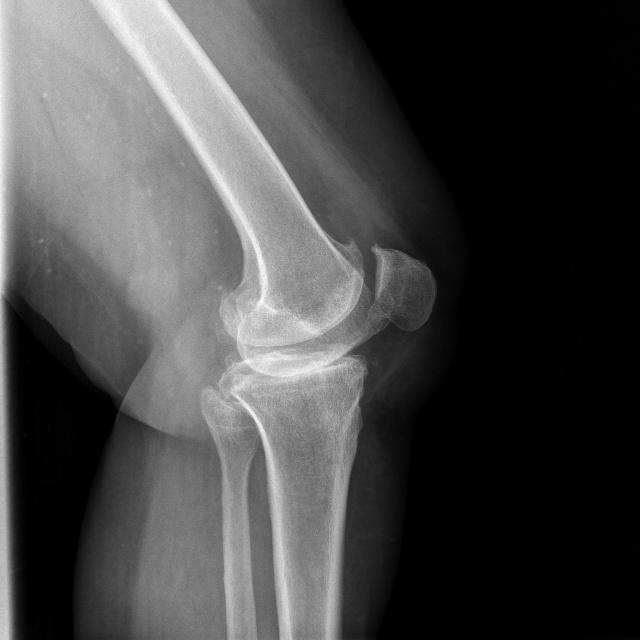Knee: (213, 240, 436, 456)
